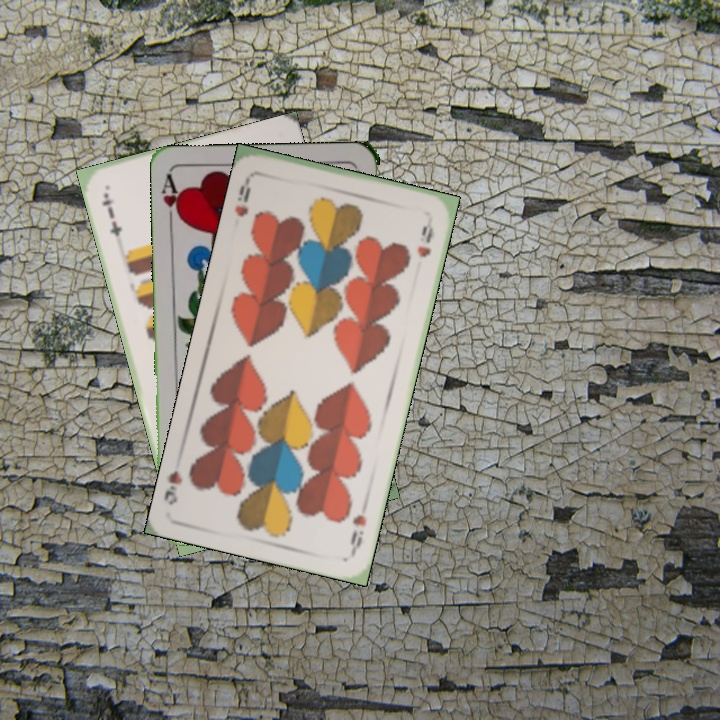E7: (98, 189, 125, 240)
H9: (230, 172, 257, 220), (346, 510, 369, 556)
HA: (158, 170, 185, 230)
